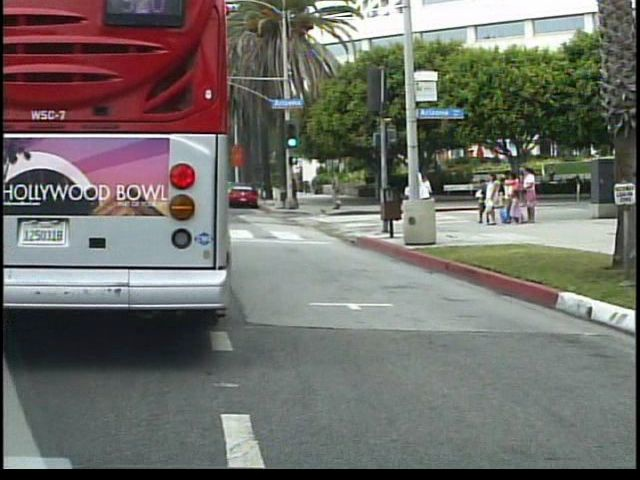person: (403, 161, 430, 240), (416, 170, 440, 233), (330, 169, 350, 214)
